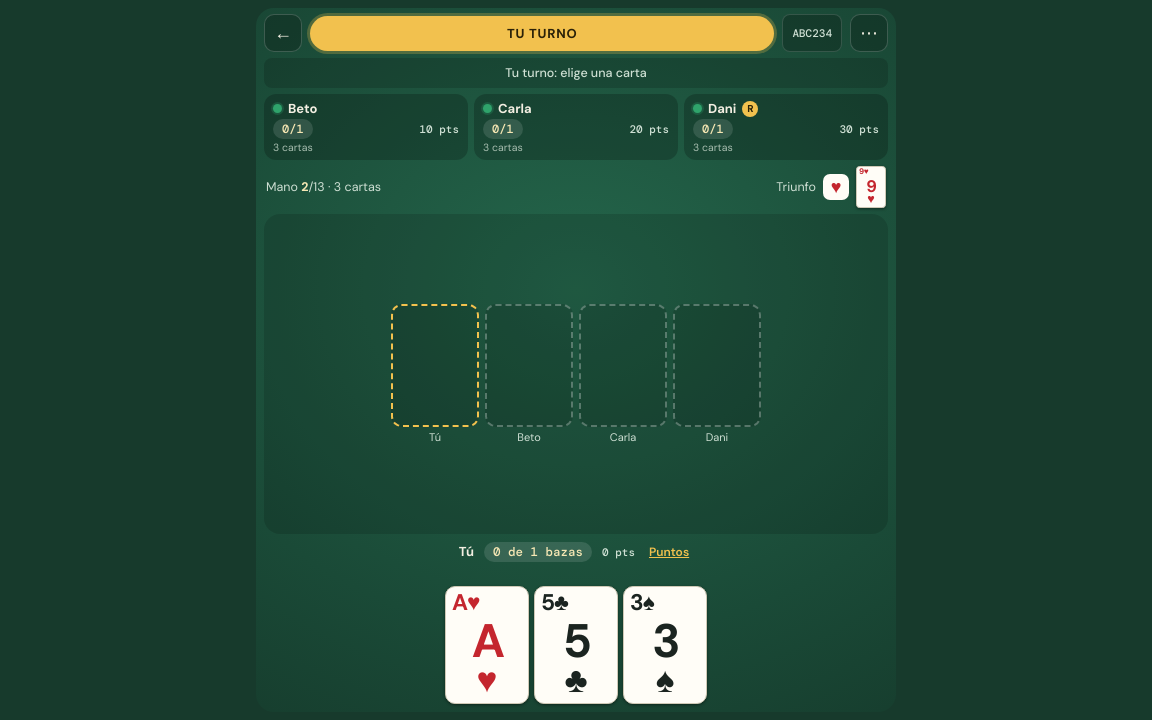
Test case: mesa: menú, reglas, sonido y puntuación › la tabla de puntuación suma por mano y muestra los totales
Click the button named "Más opciones" at (869, 33), box [850,14,888,52]
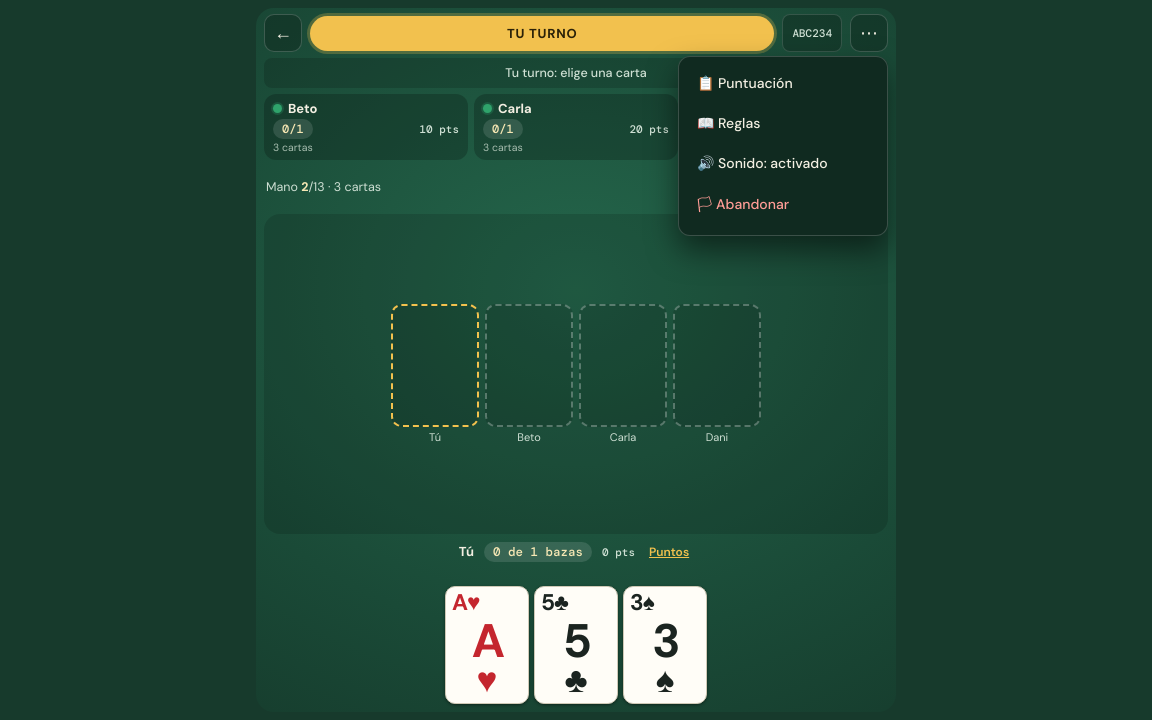
Click the button "📋 Puntuación" at (783, 83), box [685,63,881,103]
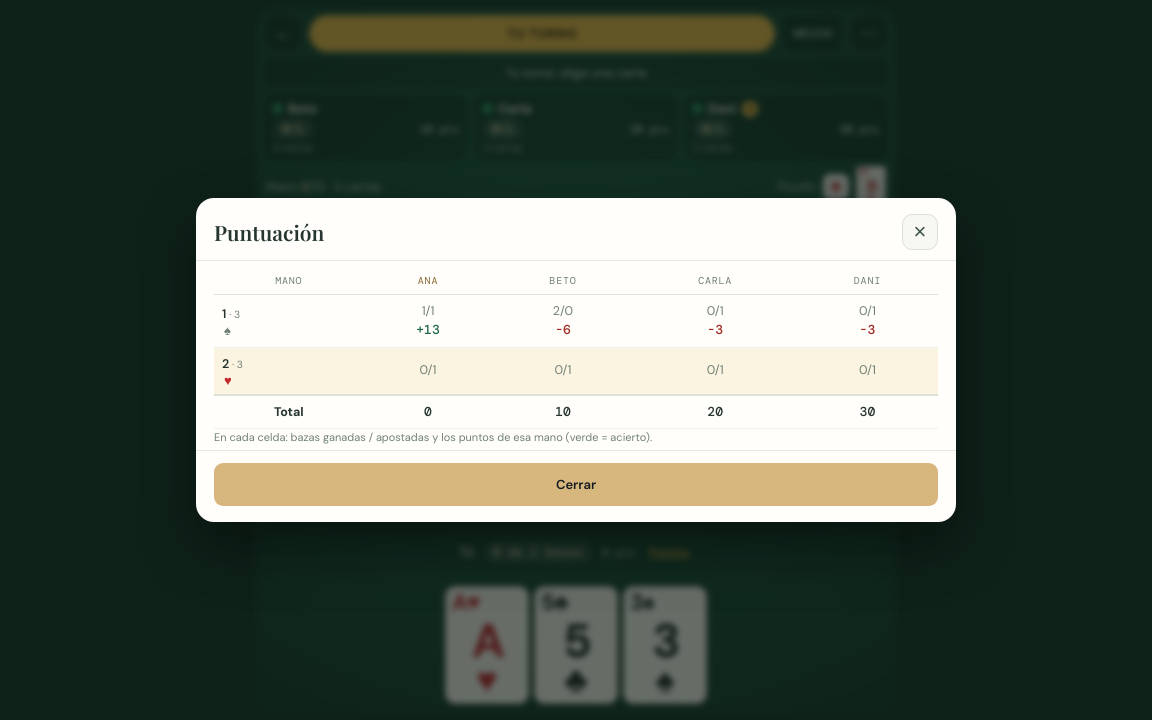
Check: the text "+13" is shown, box [416,321,440,338]
Check: the text "-6" is shown, box [555,321,571,338]
Check: the text "Total" is shown, box [214,394,364,429]
